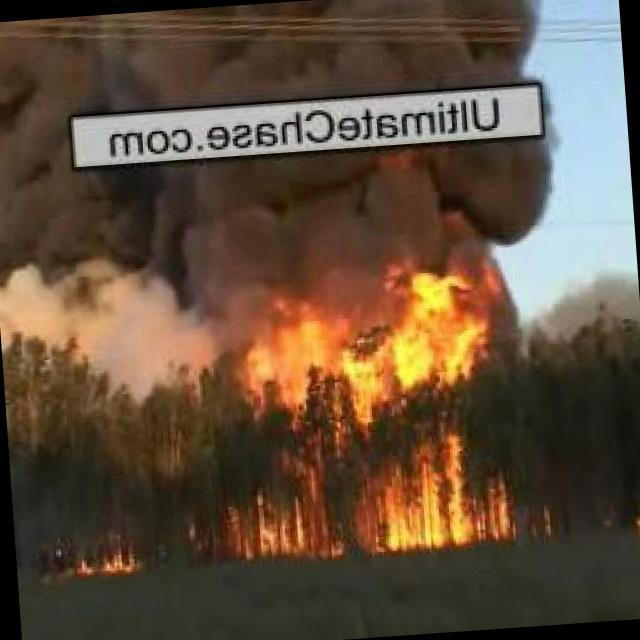Fire: (216, 270, 510, 566), (54, 542, 147, 581)
